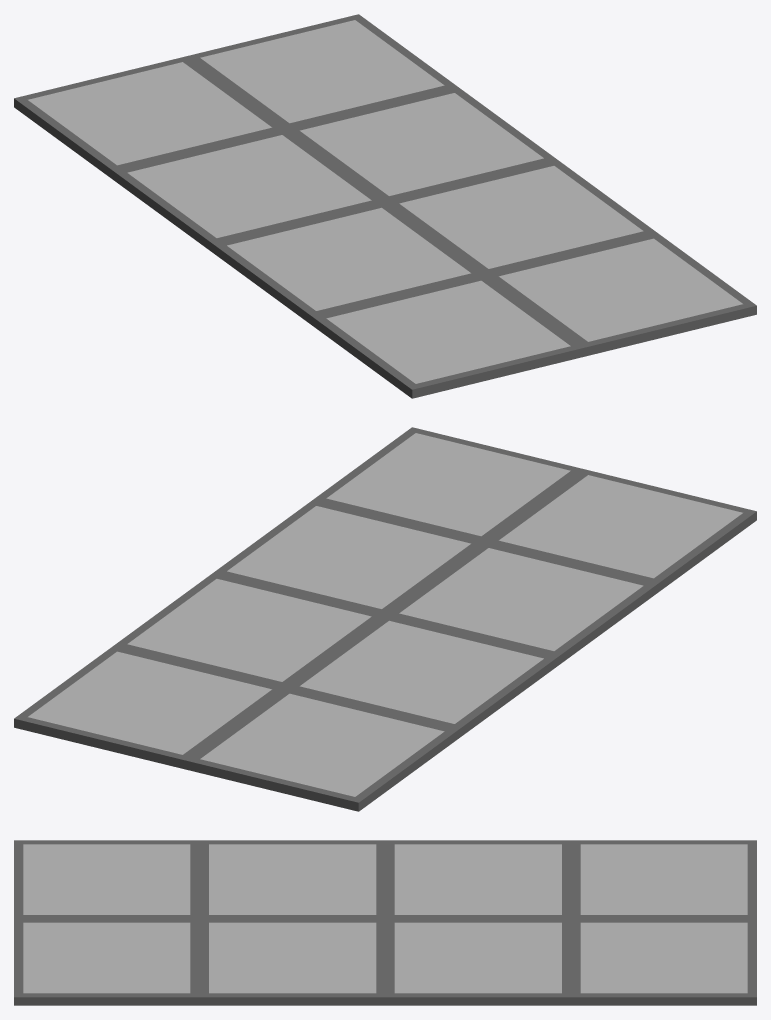
The model's file is ceiling_01_M.glb.
The picture shows the model from 3 angles, top to bottom: view 1: azimuth 30°, elevation 25°; view 2: azimuth 150°, elevation 25°; view 3: azimuth 270°, elevation 25°; orthographic projection. The views are drawn at different scales.
Parts seen in each view (by area): view 1: Untitled; view 2: Untitled; view 3: Untitled.
Boxes of the visible parts, box(x1,y1,x2,y2) form: Untitled: box(14, 14, 756, 398); Untitled: box(14, 427, 756, 811); Untitled: box(14, 840, 756, 1005).
Bounding box in the file's own units: 1.2 × 0.03 × 2.4.
Materials: 1 (1 with a texture image).
